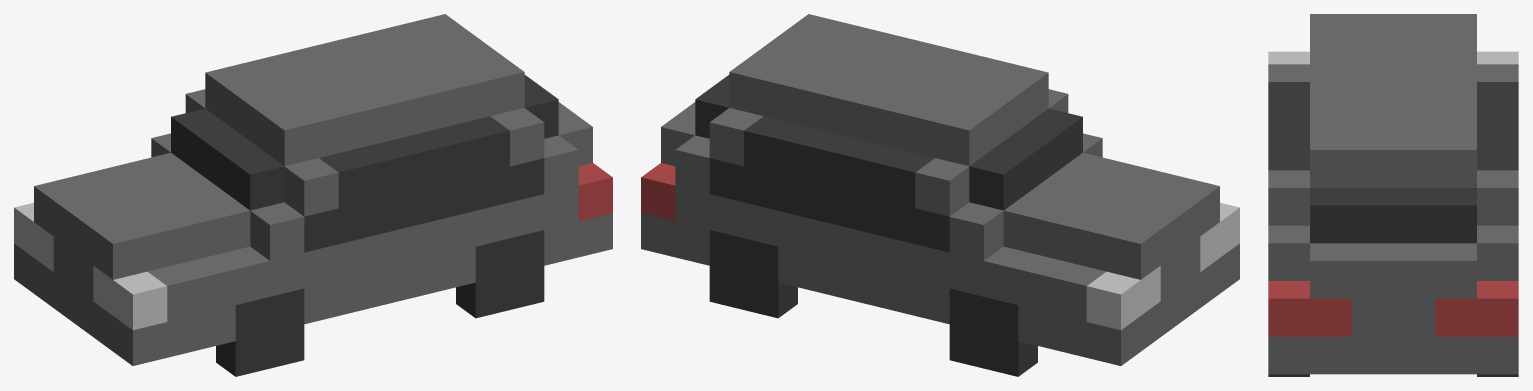
The model's file is car-v1-grey.gltf.
3 renders of one model, left to right at view 1: azimuth 30°, elevation 25°; view 2: azimuth 150°, elevation 25°; view 3: azimuth 270°, elevation 25°, orthographic. The views are drawn at different scales.
Parts seen in each view (by area): view 1: model, wheels; view 2: model, wheels; view 3: model, wheels.
Boxes of the visible parts, box(x1,y1,x2,y2) form: model: box(14, 14, 612, 365); wheels: box(216, 230, 544, 376); model: box(641, 14, 1239, 365); wheels: box(709, 230, 1037, 376); model: box(1268, 14, 1518, 374); wheels: box(1268, 374, 1518, 376).
Size of the model in its own units: 1.4 by 0.6 by 0.6.
2 materials, 2 textured.
